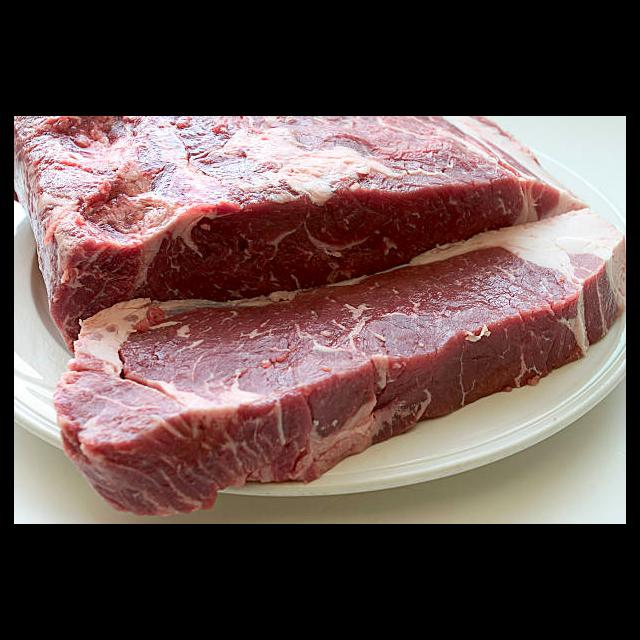beef: (15, 117, 624, 517)
